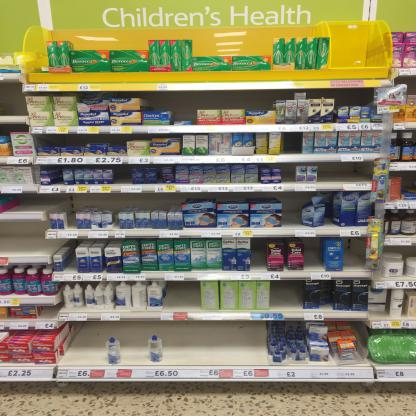Void: (165, 323, 263, 362), (60, 321, 102, 364), (0, 223, 43, 257), (199, 93, 270, 109), (165, 280, 202, 309), (121, 323, 143, 362), (320, 164, 372, 180), (273, 278, 302, 306), (346, 238, 372, 267), (39, 134, 119, 143), (306, 238, 324, 270), (340, 88, 372, 105), (17, 195, 54, 209), (172, 94, 193, 118), (286, 195, 301, 226), (252, 241, 267, 269), (284, 132, 300, 151), (114, 168, 134, 182), (141, 96, 165, 107), (69, 198, 77, 227), (282, 166, 296, 180), (161, 278, 165, 280)
